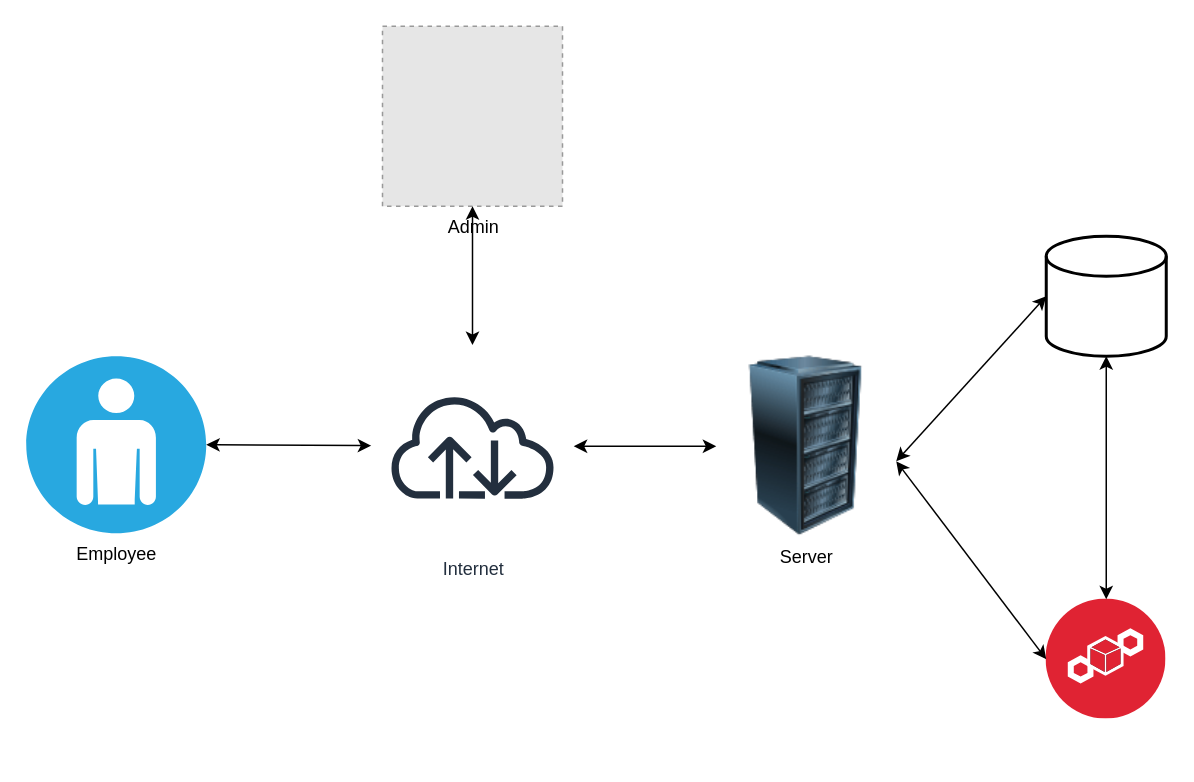
Image size: 1194x782. Some labels were removed from this diagram. Grey dashed boxes stand in for pictures. Here are the shapes that lost their labels. From the top down, the box of each, then its label:
(1044, 234, 1167, 357): Database
(1046, 598, 1166, 718): Blockchain
